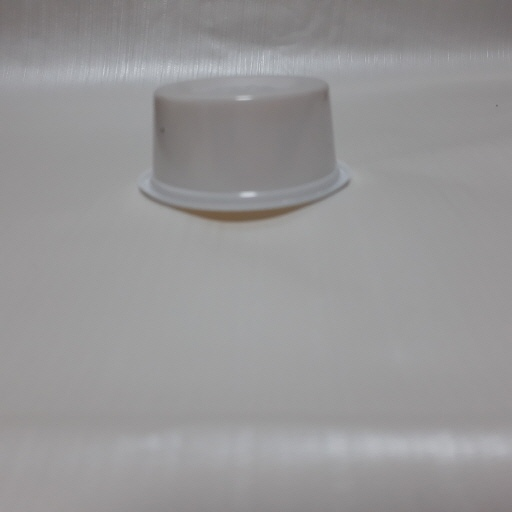Plastic_5: (135, 74, 357, 222)
